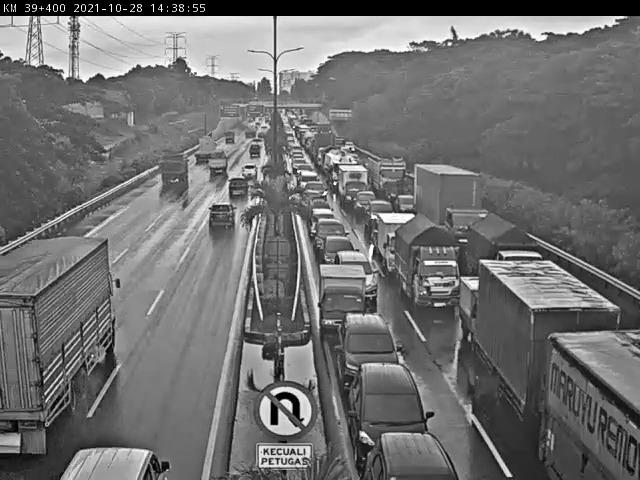big truck: (479, 259, 626, 446), (0, 237, 120, 454), (413, 162, 487, 253), (193, 135, 220, 166), (243, 125, 255, 140)
car: (349, 364, 436, 463), (335, 314, 399, 398), (363, 433, 460, 480), (335, 252, 380, 302), (319, 236, 360, 277), (312, 218, 350, 257), (367, 199, 395, 231), (209, 202, 239, 230), (309, 207, 334, 237), (300, 189, 323, 221), (297, 169, 319, 196), (226, 177, 250, 201), (355, 191, 376, 216), (242, 161, 259, 178), (251, 137, 263, 150), (254, 132, 266, 143)
small truck: (461, 209, 540, 302), (393, 215, 462, 312), (458, 274, 521, 351), (317, 261, 369, 337), (377, 212, 420, 277), (339, 165, 369, 207), (158, 154, 188, 183), (206, 147, 229, 174), (247, 144, 261, 159), (221, 132, 234, 146)
